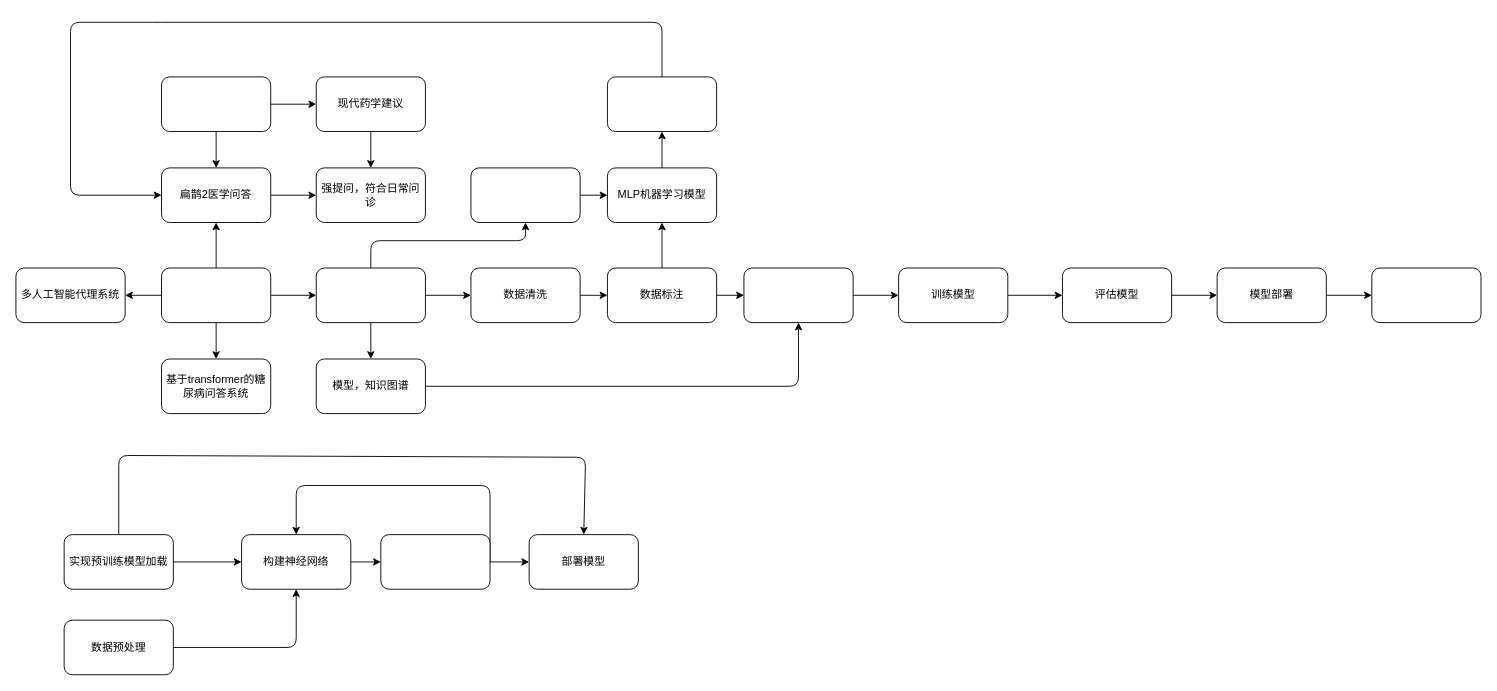
Some shapes in this 1497 by 691 pixel diagram are drawn without their labels. Each missing label, with the centre of its shape:
"人体数据" belongs at pixel 525 194.
"分析收集数据" belongs at pixel 370 295.
"应用" belongs at pixel 1426 295.
"插入深度学习模块" belongs at pixel 435 561.
"搭建模型" belongs at pixel 798 295.
"本草（华佗）模型提供医药提示？" belongs at pixel 216 103.
"确定目标方向，选定模型" belongs at pixel 216 295.
"辅助确诊(追踪)病情" belongs at pixel 662 103.
